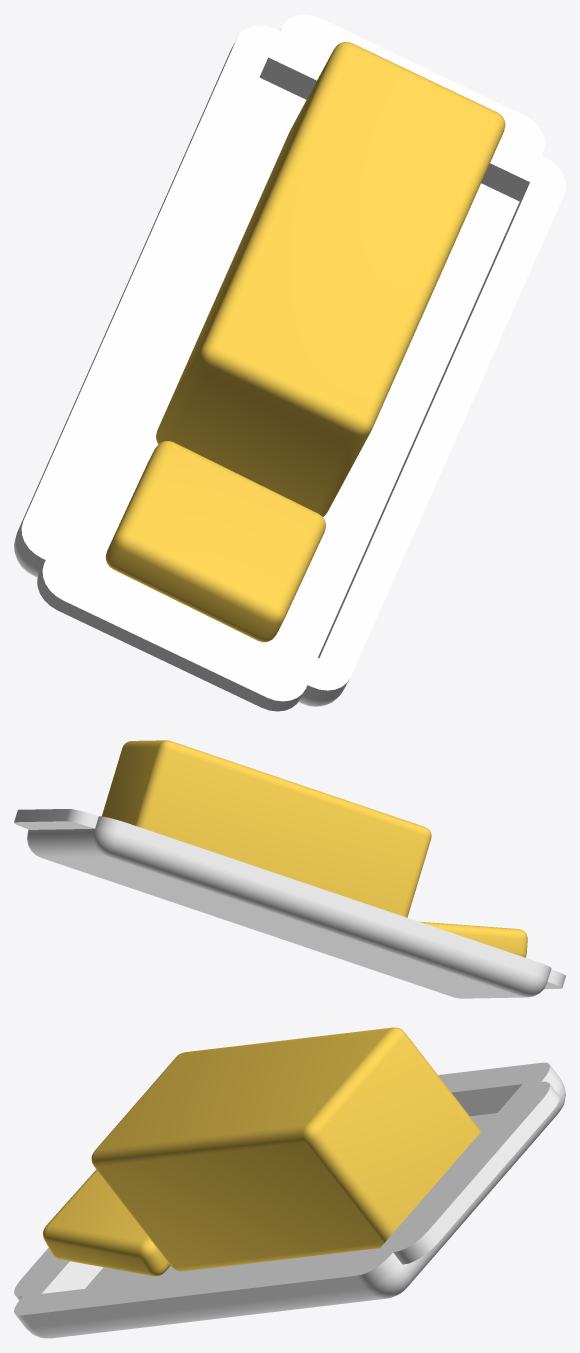
Rendered from butter.gltf.
3 views of the same model, one above another, from view 1: azimuth 30°, elevation 25°; view 2: azimuth 150°, elevation 25°; view 3: azimuth 270°, elevation 25° (orthographic). The views are drawn at different scales.
Parts seen in each view (by area): view 1: Plane.215; view 2: Plane.215; view 3: Plane.215.
Boxes of the visible parts, x1,y1,x2,y2 form: Plane.215: (14,14,565,711); Plane.215: (14,740,565,998); Plane.215: (14,1027,565,1338).
Bounding box in the file's own units: 2.25 × 1.54 × 1.9.
1 material, 1 textured.
